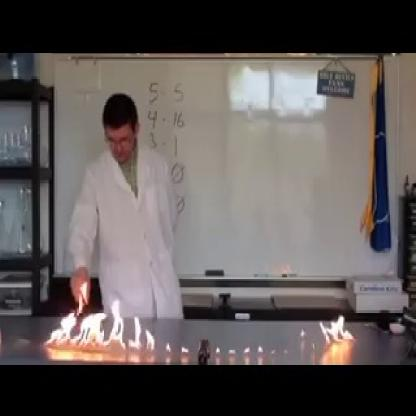fire: (46, 302, 156, 351), (318, 306, 357, 351)
